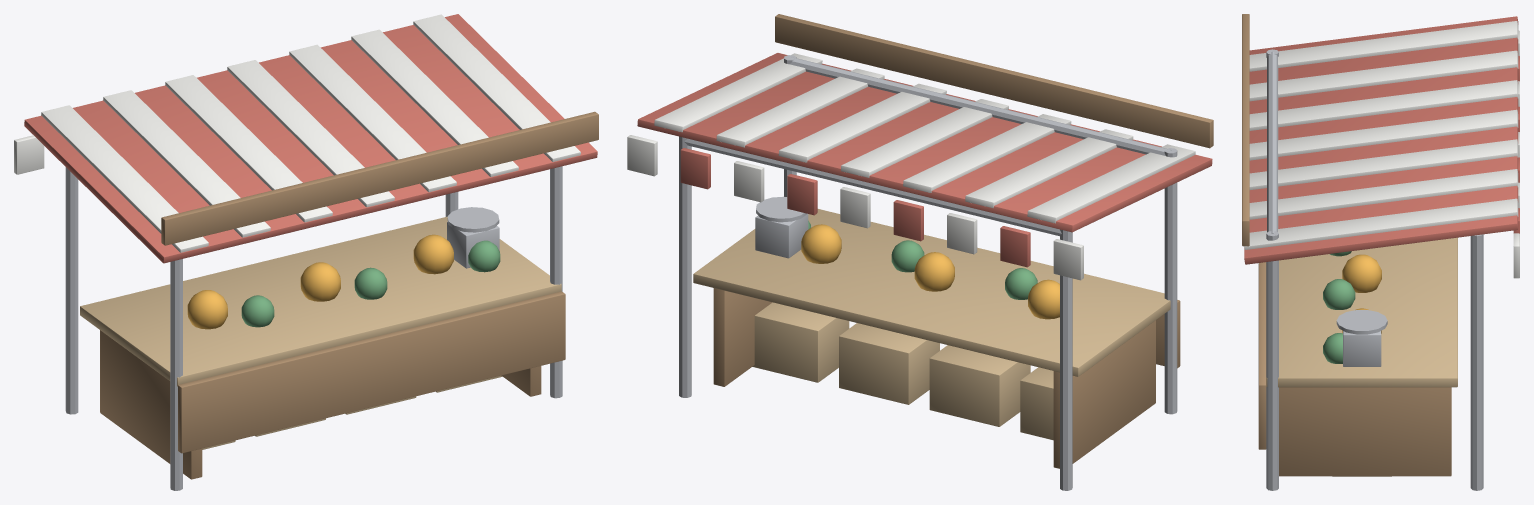
File: th48_marktstand.glb
3 views of the same model, side by side, from view 1: azimuth 30°, elevation 25°; view 2: azimuth 150°, elevation 25°; view 3: azimuth 270°, elevation 25° (orthographic). The views are drawn at different scales.
Parts seen in each view (by area): view 1: Cube.008, Cube, Cube.003, Cube.025, Cube.001, Cube.009, Cube.011, Cube.010, Cube.012, Cube.013, Cube.014, Cube.015 (+13 smaller); view 2: Cube, Cube.008, Cube.025, Cube.001, Cube.005, Cube.006, Cube.007, Cube.002, Cylinder.004, Cube.009, Cube.011, Cube.015 (+26 smaller); view 3: Cube.008, Cube, Cube.002, Cube.015, Cube.013, Cube.011, Cube.012, Cube.010, Cube.014, Cube.009, Cylinder.003, Cylinder.002 (+9 smaller).
Part boxes in pixels (x1,y1,x2,y2): Cube.008: (24,14,597,263); Cube: (80,216,561,386); Cube.003: (178,291,565,453); Cube.025: (161,111,598,245); Cube.001: (100,330,202,479); Cube.009: (41,105,208,252); Cube.011: (165,75,332,222); Cube.010: (103,90,270,237); Cube.012: (227,60,394,207); Cube.013: (289,44,456,192); Cube.014: (351,29,518,176); Cube.015: (413,14,580,161); Cube: (693,209,1170,376); Cube.008: (637,53,1212,232); Cube.025: (775,14,1213,148); Cube.001: (1053,320,1155,468); Cube.005: (929,345,1030,426); Cube.006: (839,323,939,404); Cube.007: (752,302,849,382); Cube.002: (713,288,772,386); Cylinder.004: (790,57,1171,155); Cube.009: (1027,144,1195,223); Cube.011: (903,114,1071,192); Cube.015: (654,53,822,132); Cube.008: (1244,16,1518,264); Cube: (1266,237,1457,387); Cube.002: (1279,387,1451,476); Cube.015: (1244,198,1518,249); Cube.013: (1249,139,1518,189); Cube.011: (1249,80,1518,130); Cube.012: (1249,109,1518,160); Cube.010: (1249,50,1518,101); Cube.014: (1249,169,1518,219); Cube.009: (1249,21,1518,71); Cylinder.003: (1470,234,1483,490); Cylinder.002: (1266,231,1278,490).
Bounding box in the file's own units: 4 × 2.43 × 2.18.
